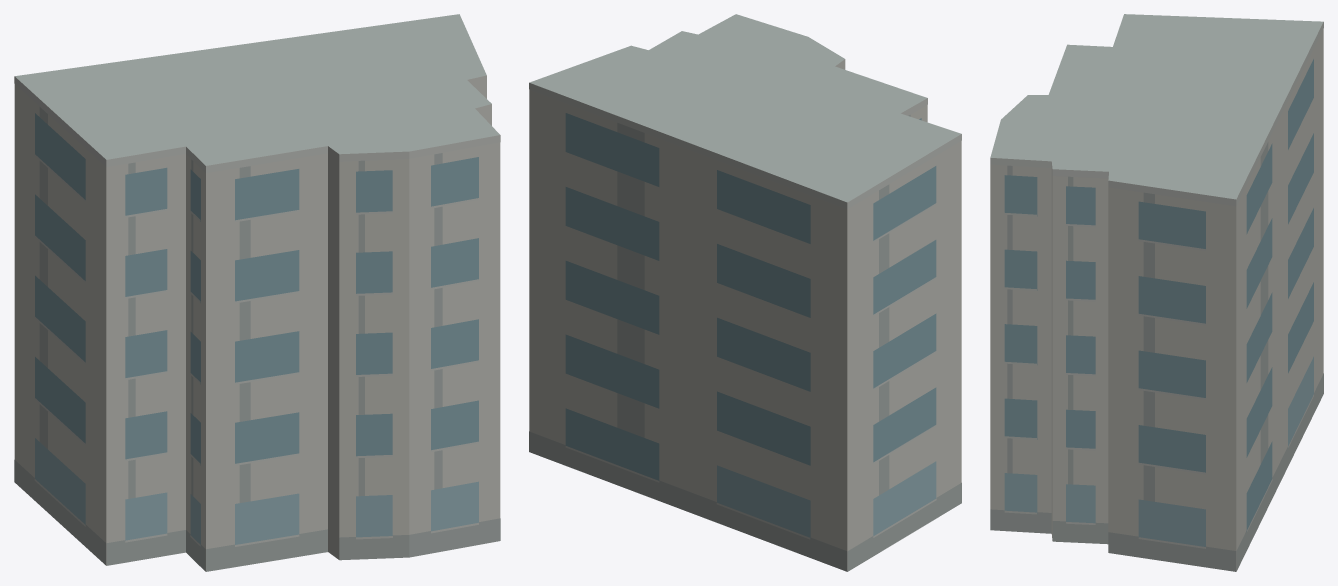
The model's file is survey-upis-32867944.glb.
The picture shows the model from 3 angles, left to right: view 1: azimuth 30°, elevation 25°; view 2: azimuth 150°, elevation 25°; view 3: azimuth 270°, elevation 25°; orthographic projection. The views are drawn at different scales.
Visible parts, largest first — view 1: survey-upis-32867944.tmp; view 2: survey-upis-32867944.tmp; view 3: survey-upis-32867944.tmp.
Part boxes in pixels (bbox=[...]): survey-upis-32867944.tmp: bbox=[14, 14, 500, 571]; survey-upis-32867944.tmp: bbox=[529, 14, 961, 571]; survey-upis-32867944.tmp: bbox=[990, 14, 1323, 571].
Size of the model in its own units: 14.22 by 13.3 by 10.8.
